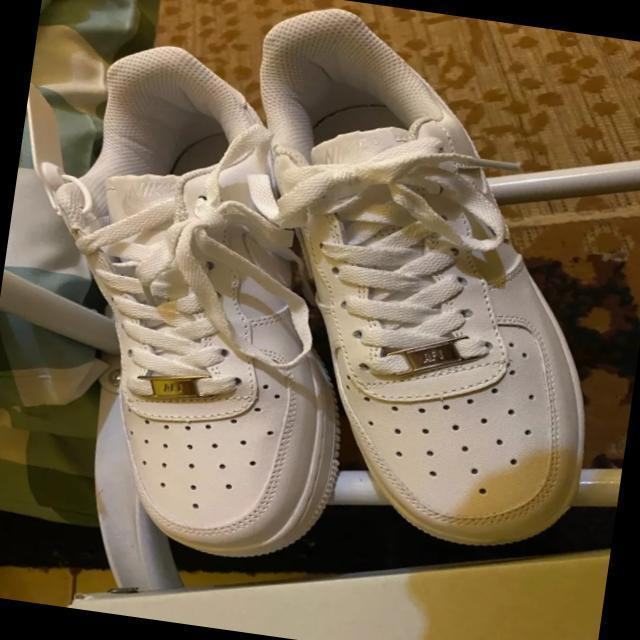nike original air force: (181, 0, 640, 568), (0, 33, 401, 576)
